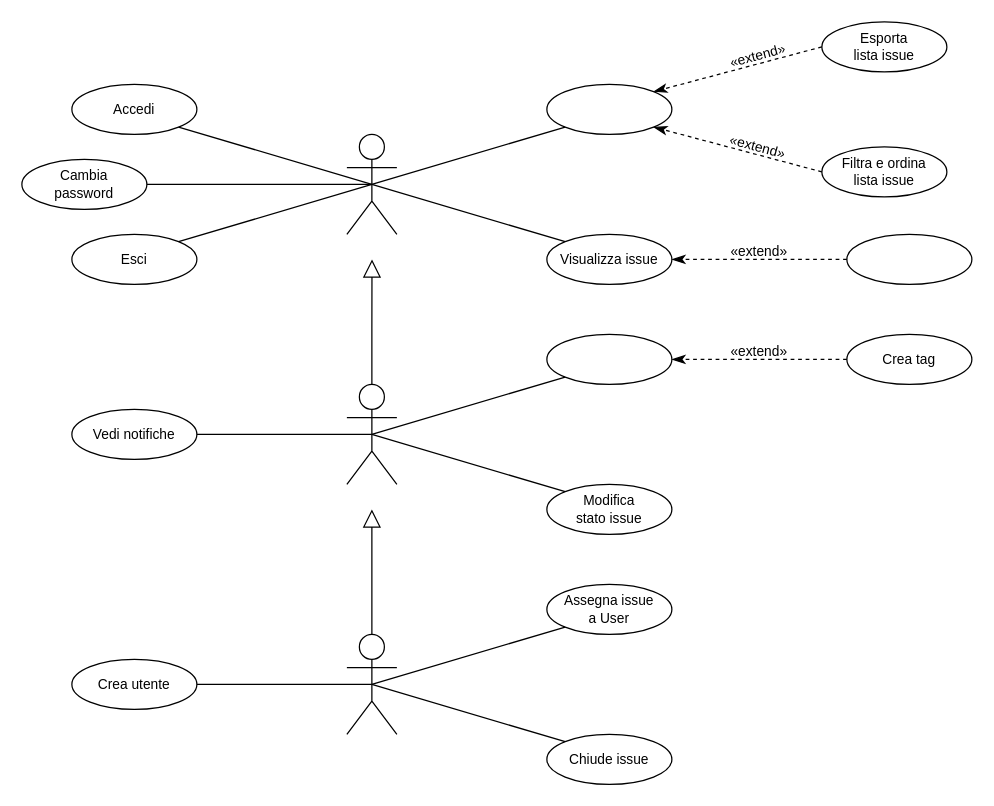
Some shapes in this 994 by 806 pixel diagram are drawn without their labels. The shapes that lost their labels are listed below. From the top down, each one's centre as x and y in pixels, then its label:
At pixel 609 108: "Visualizza lista issue".
At pixel 371 183: "Lurker".
At pixel 909 258: "Visualizza cronologia issue".
At pixel 609 358: "Segnala issue".
At pixel 371 433: "User".
At pixel 371 683: "Admin".
